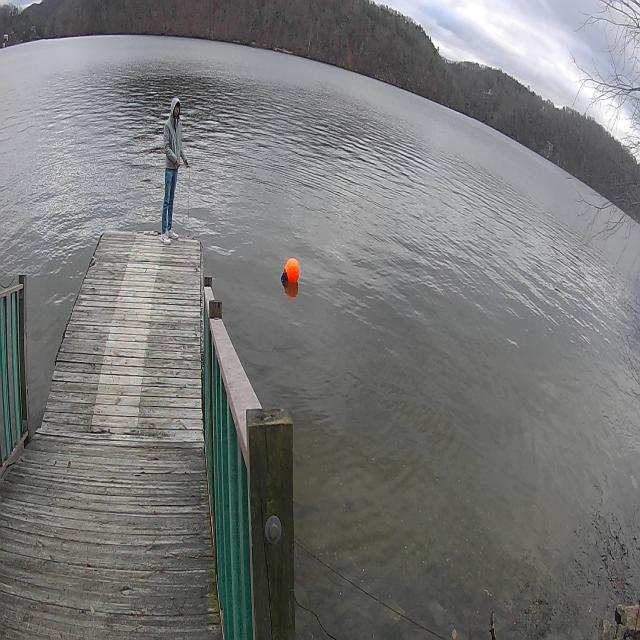Buoy: (278, 253, 308, 290)
